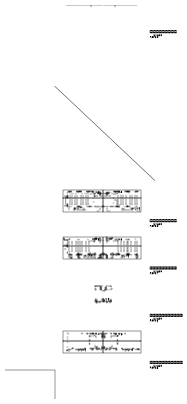wall: (62, 224, 187, 320)
